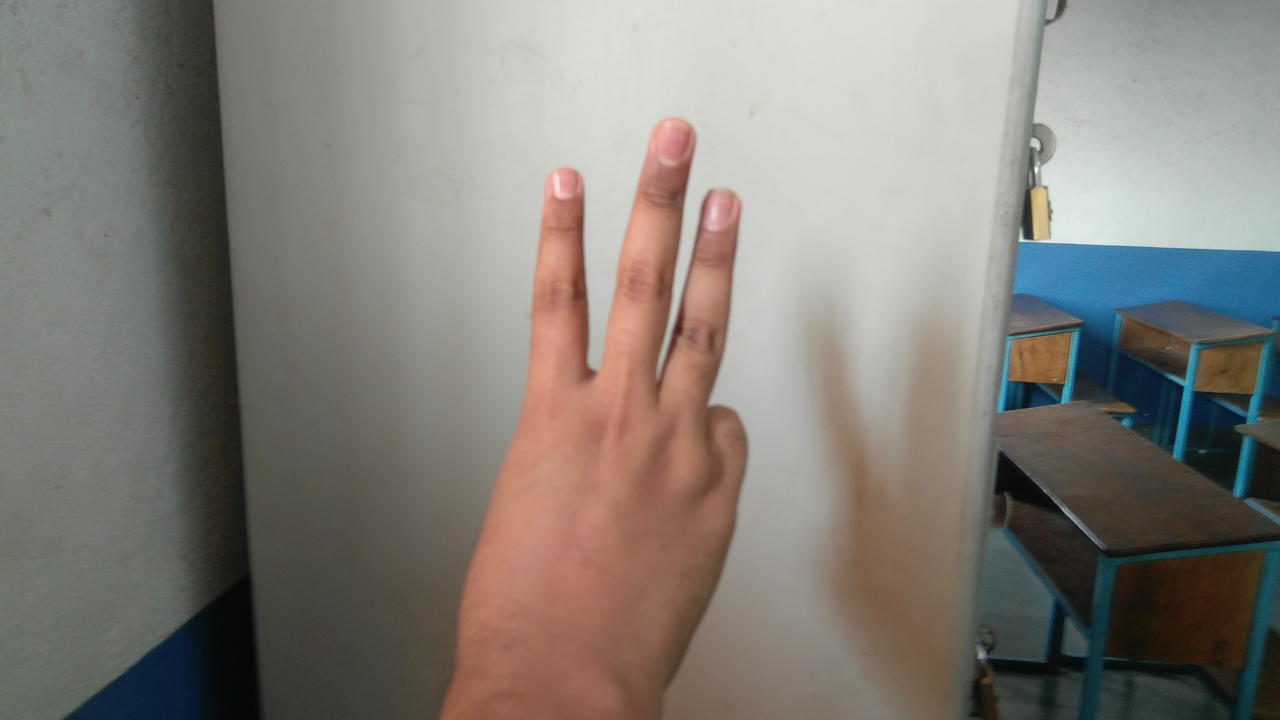fingertip: (636, 110, 704, 168), (692, 176, 752, 238), (530, 156, 592, 210)
